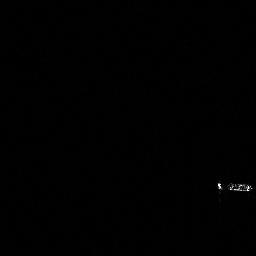ship: (215, 177, 256, 200)
